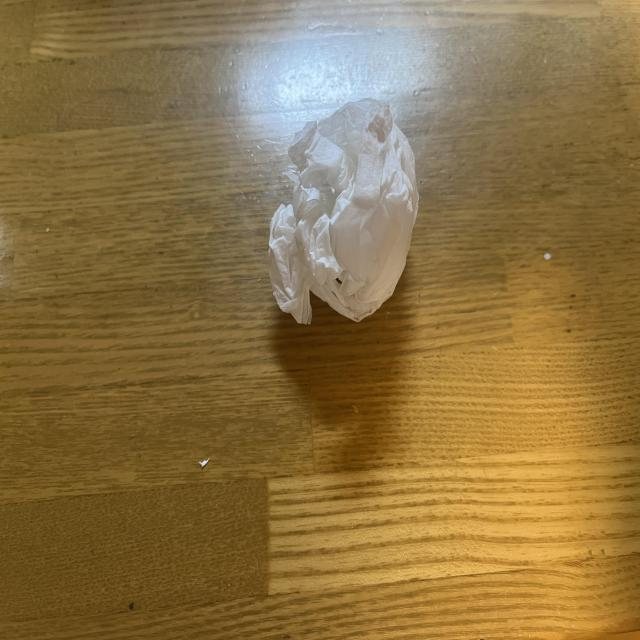衛生紙: (268, 98, 420, 328)
